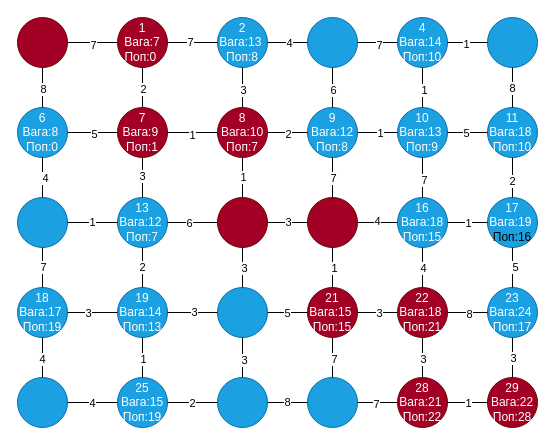
This 555x445 diagram has some shape labels left out. The shapes that lost their labels are listed below. From the top down, each one's centre as x and y in pixels, then its label:
the point at 42,42: 0 Вага: 0 Поп: -
the point at 332,42: 3 Вага:17 Поп:2
the point at 512,42: 5 Вага:15 Поп:4
the point at 42,222: 12 Вага:12 Поп:6
the point at 242,222: 14 Вага:11 Поп:8
the point at 332,222: 15 Вага:14 Поп:14
the point at 242,312: 20 Вага:14 Поп:14
the point at 42,402: 24 Вага:19 Поп:25
the point at 242,402: 26 Вага:17 Поп:20
the point at 332,402: 27 Вага:22 Поп:21
